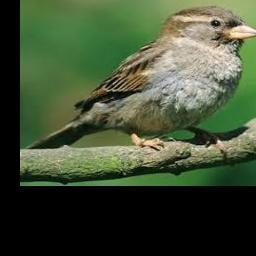Sparrow: (25, 6, 256, 154)
